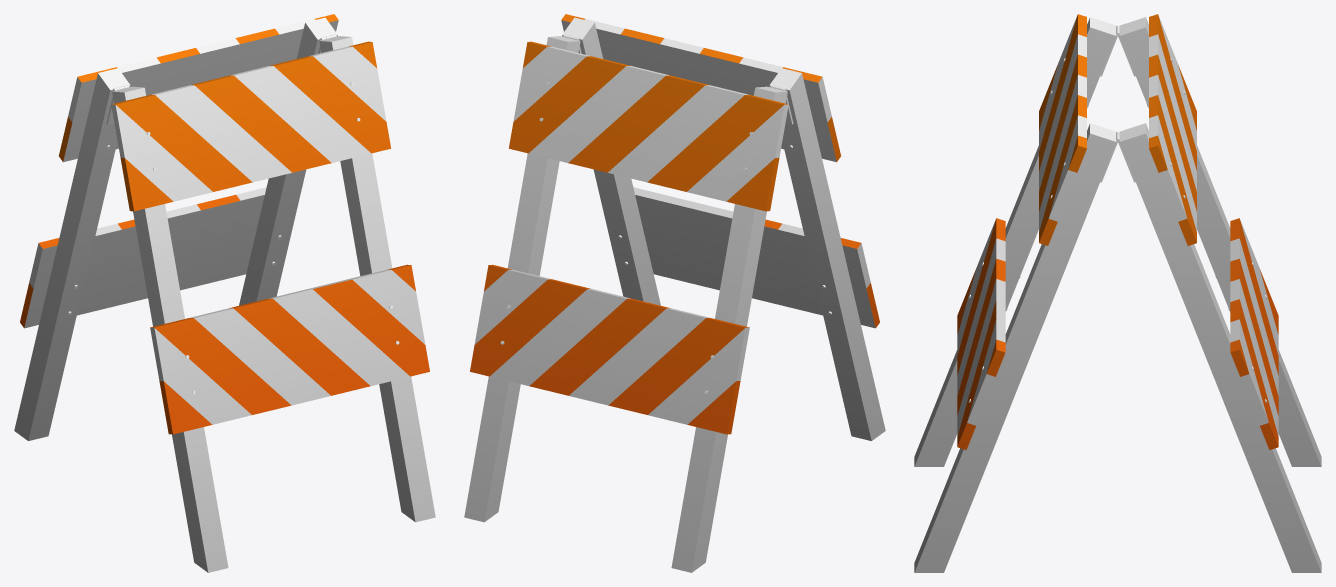
File: type_ii_barricade_01_small.glb
The picture shows the model from 3 angles, left to right: view 1: azimuth 30°, elevation 25°; view 2: azimuth 150°, elevation 25°; view 3: azimuth 270°, elevation 25°; orthographic projection. The views are drawn at different scales.
Visible parts, largest first — view 1: type_ii_barricade_01_small; view 2: type_ii_barricade_01_small; view 3: type_ii_barricade_01_small.
Boxes of the visible parts, box(x1,y1,x2,y2) form: type_ii_barricade_01_small: box(14, 14, 435, 572); type_ii_barricade_01_small: box(464, 14, 885, 572); type_ii_barricade_01_small: box(914, 14, 1321, 572).
Size of the model in its own units: 0.635 by 0.9894 by 0.8304.
Materials: 1 (1 with a texture image).
